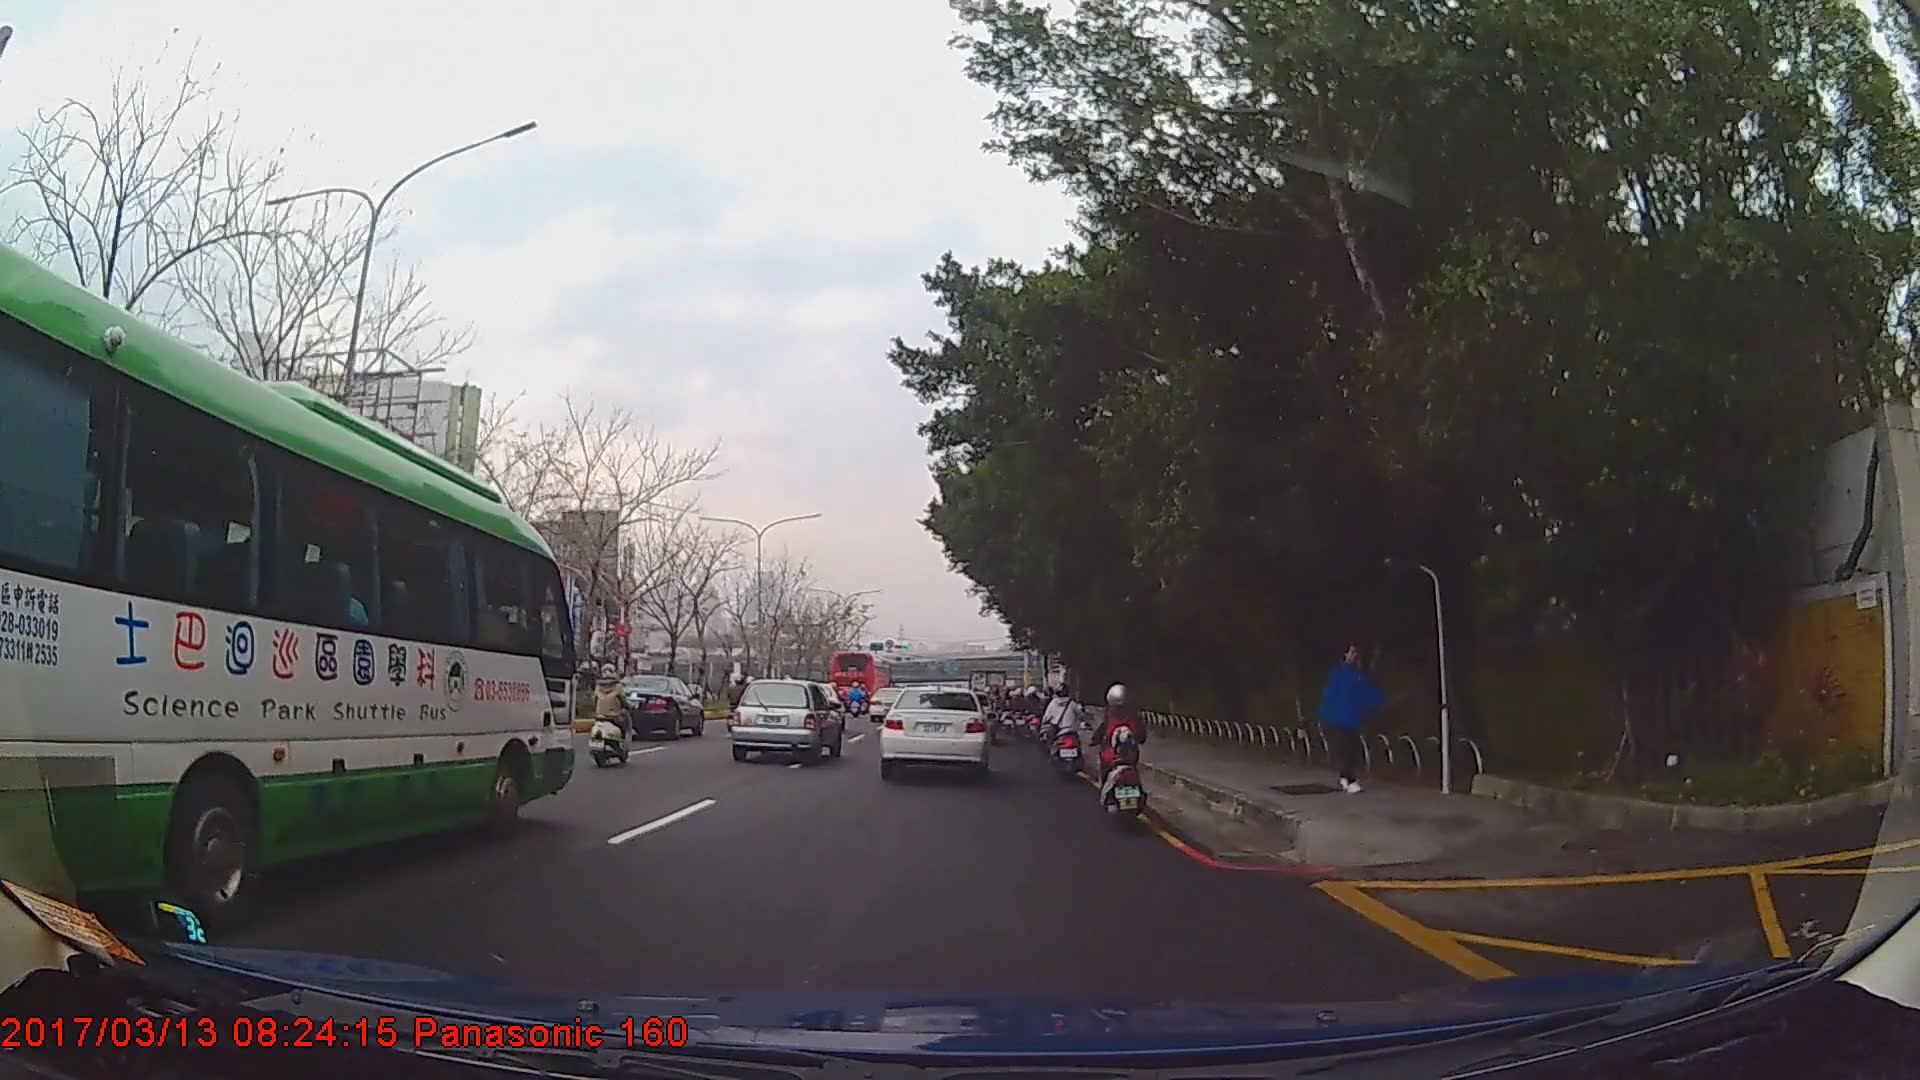pedestrian: (1319, 642, 1382, 793)
rider: (1093, 684, 1147, 833), (589, 665, 636, 769), (1041, 685, 1085, 781), (1037, 688, 1058, 752), (730, 676, 752, 728)
vehicle: (0, 245, 577, 937), (880, 685, 992, 781), (729, 676, 842, 763), (604, 674, 703, 744), (829, 649, 897, 711)
